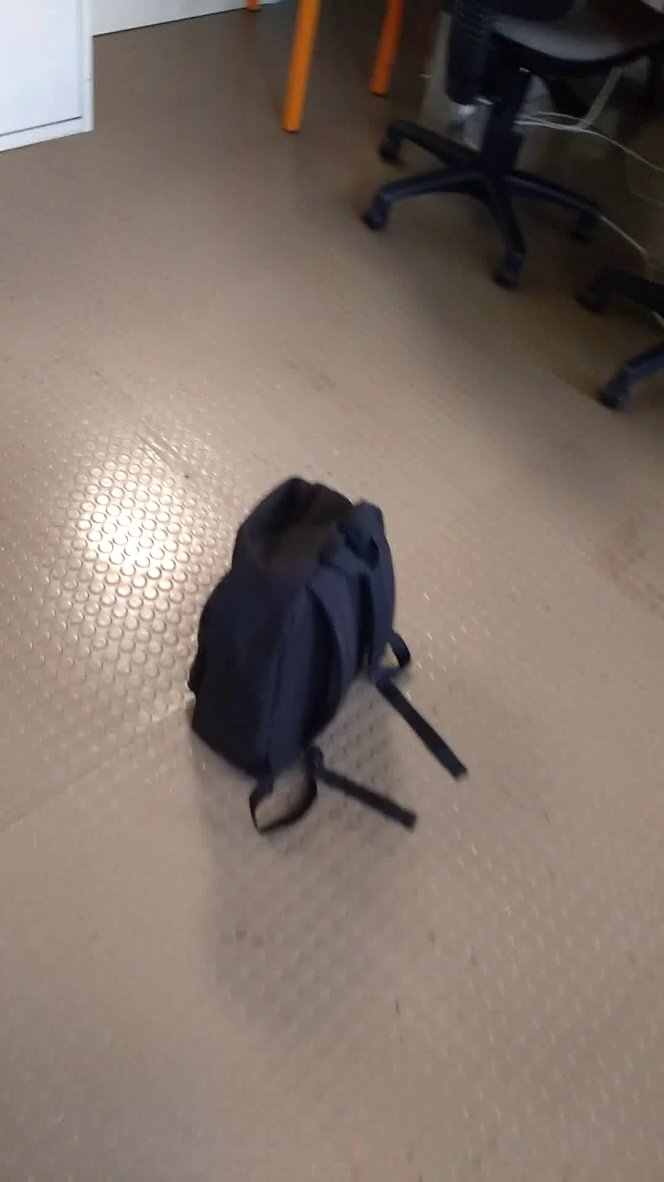bag: (176, 467, 492, 859)
